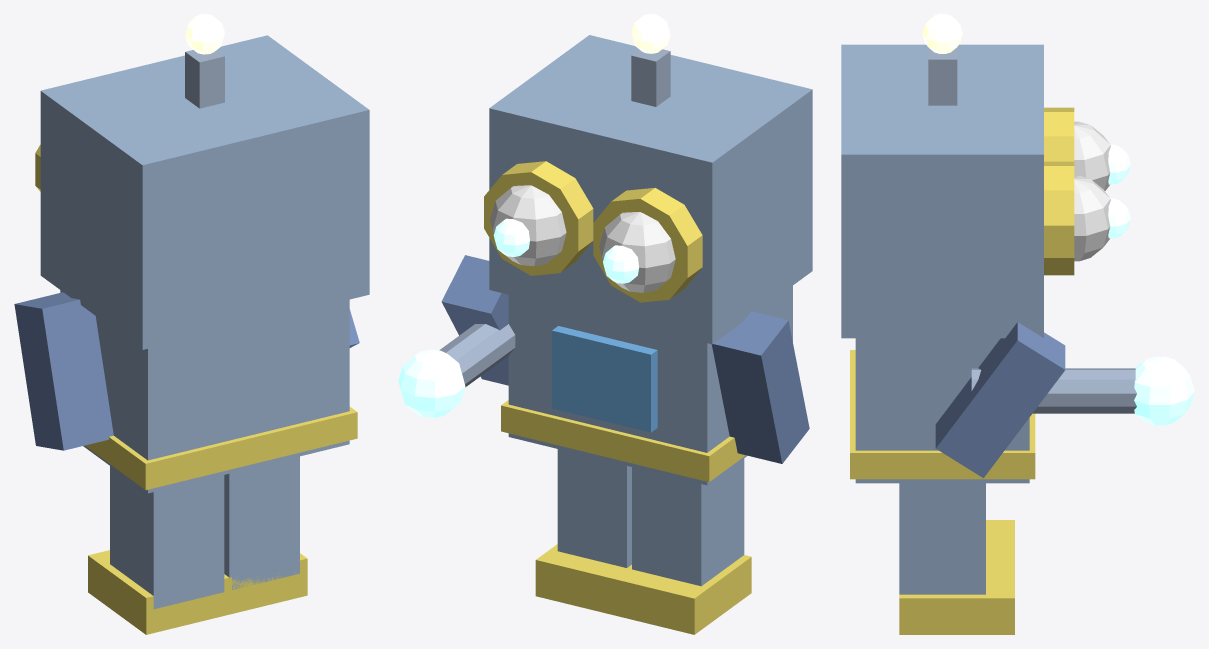
The model's file is zappies.glb.
3 views of the same model, side by side, from view 1: azimuth 30°, elevation 25°; view 2: azimuth 150°, elevation 25°; view 3: azimuth 270°, elevation 25° (orthographic).
Visible parts, largest first — view 1: zappies; view 2: zappies; view 3: zappies.
Part boxes in pixels (x1,y1,x2,y2): zappies: (14, 14, 369, 634); zappies: (398, 14, 812, 634); zappies: (841, 14, 1194, 634).
Size of the model in its own units: 1.2 by 2.21 by 1.22.
